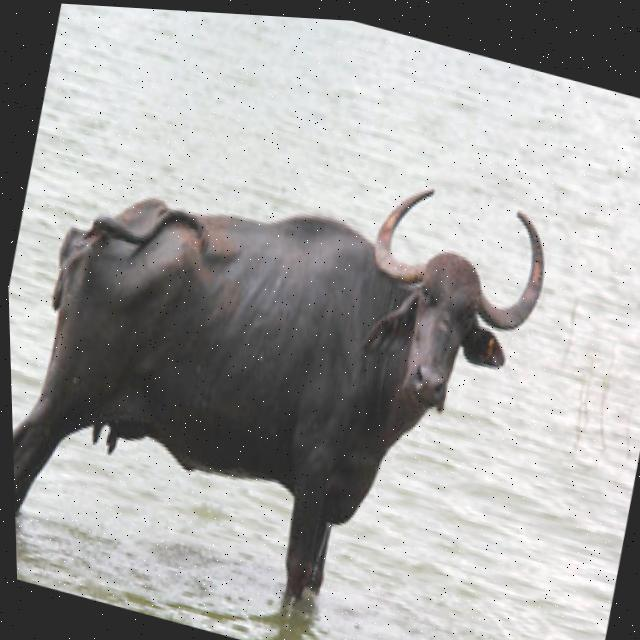Buffalo: (2, 73, 571, 640)
